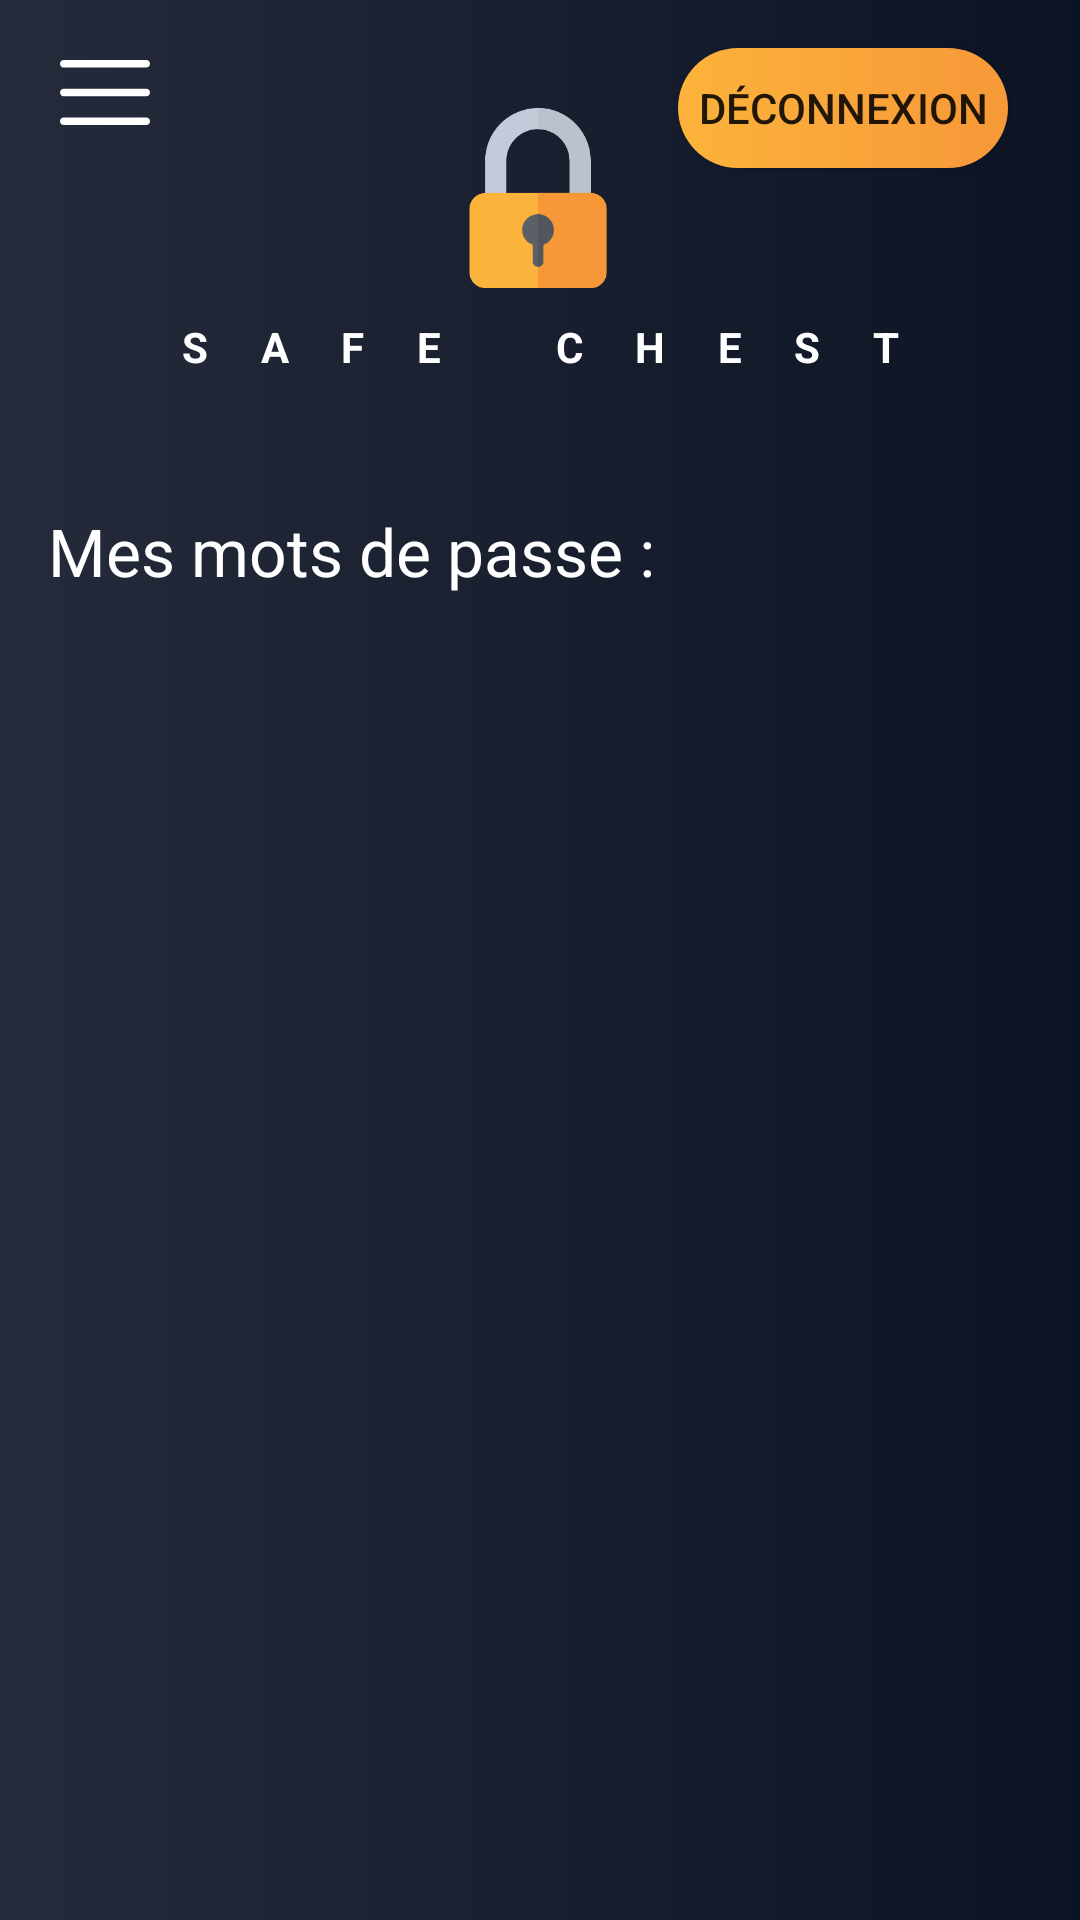

Icon bounding boxes for this 1080 x 1920 phone screenshot, format (x1, y1, x2, y2):
menu: (60, 60, 150, 125)
padlock: (469, 108, 607, 288)
